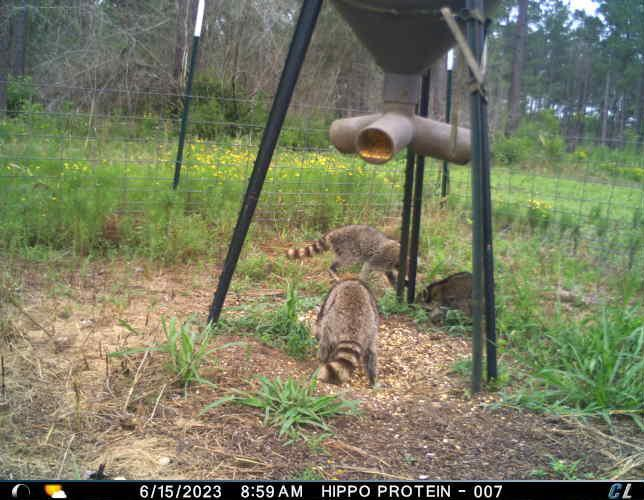Raccoon: (284, 221, 411, 293), (308, 277, 380, 389), (414, 272, 477, 322)
